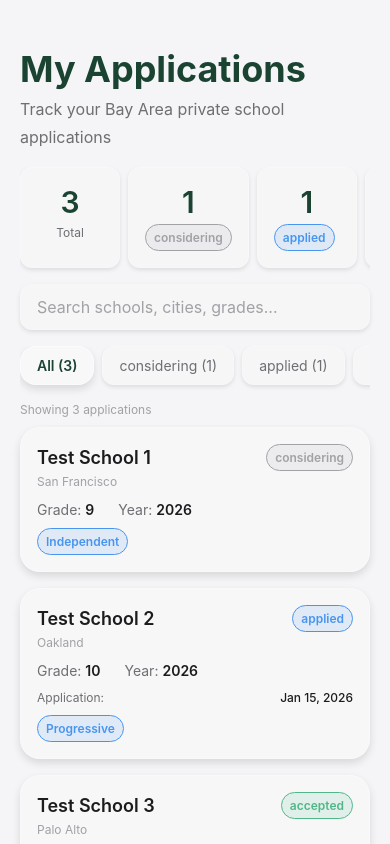
Test: DashboardScreen › Search › should show "no results" when search has no matches
Expected: the text "Test School 1" is shown, [37, 447, 151, 468]
Type "NonExistentSchool" into the field with placeholder "Search schools, cities, grades...".
click(195, 307); type("NonExistentSchool")  # box [37, 293, 353, 321]
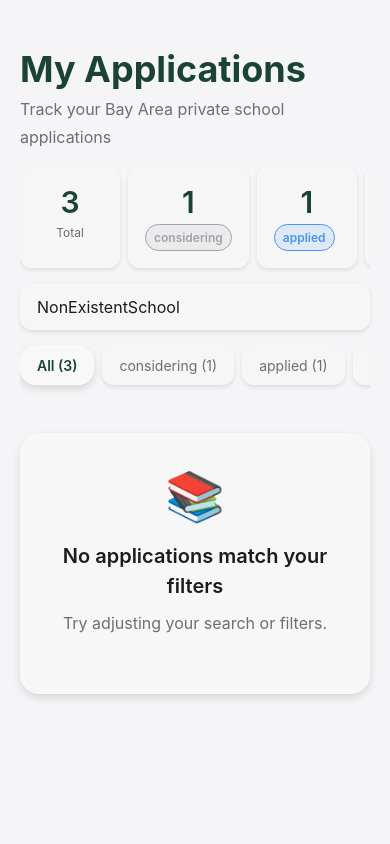
Expected: the text "No applications match your filters" is shown, [53, 541, 337, 601]
